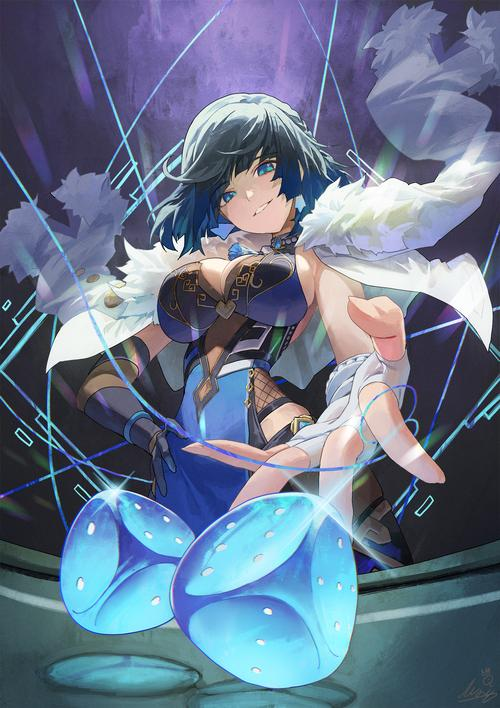夜兰: (78, 93, 452, 588)
